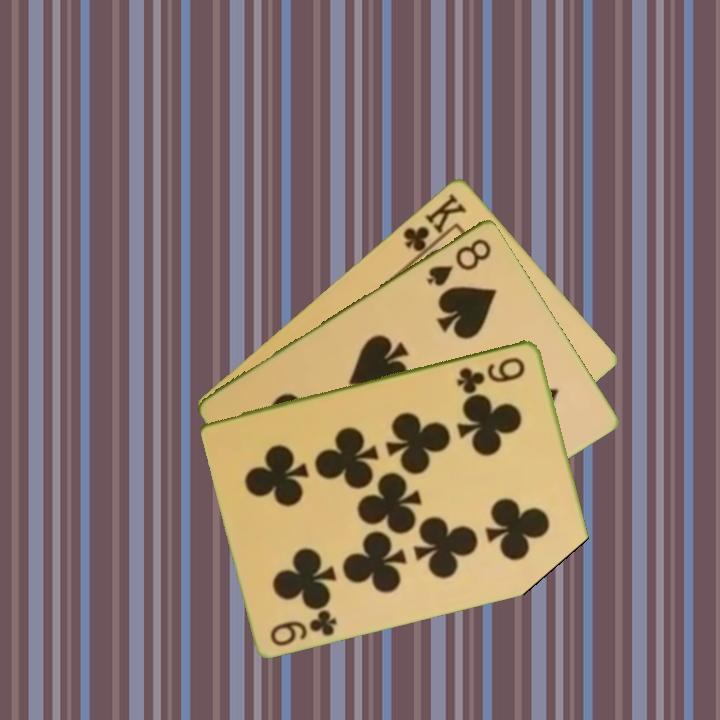8s: (422, 234, 495, 289)
9c: (267, 605, 341, 649), (453, 353, 529, 393)
Kc: (399, 189, 470, 262)
